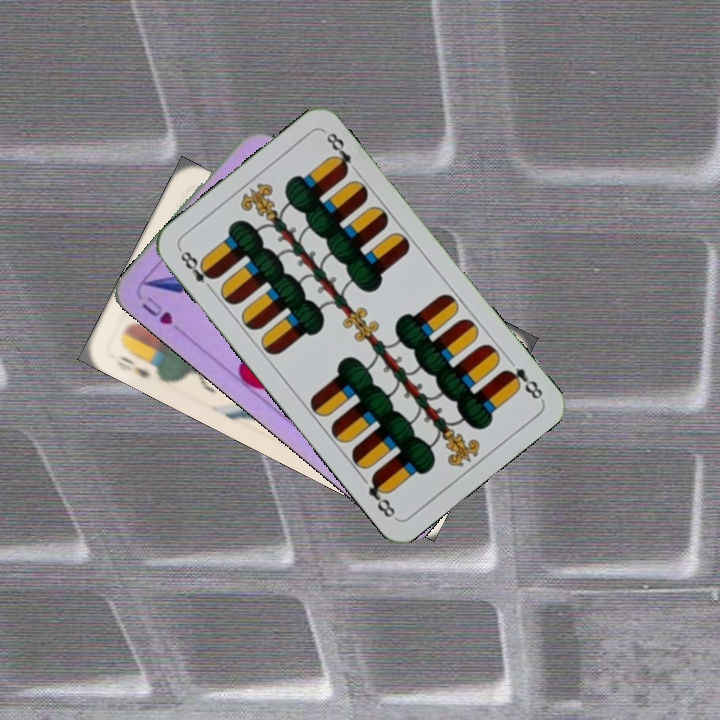E8: (175, 245, 219, 295), (499, 363, 546, 402)
EO: (115, 342, 163, 381)
HU: (137, 292, 175, 328)
